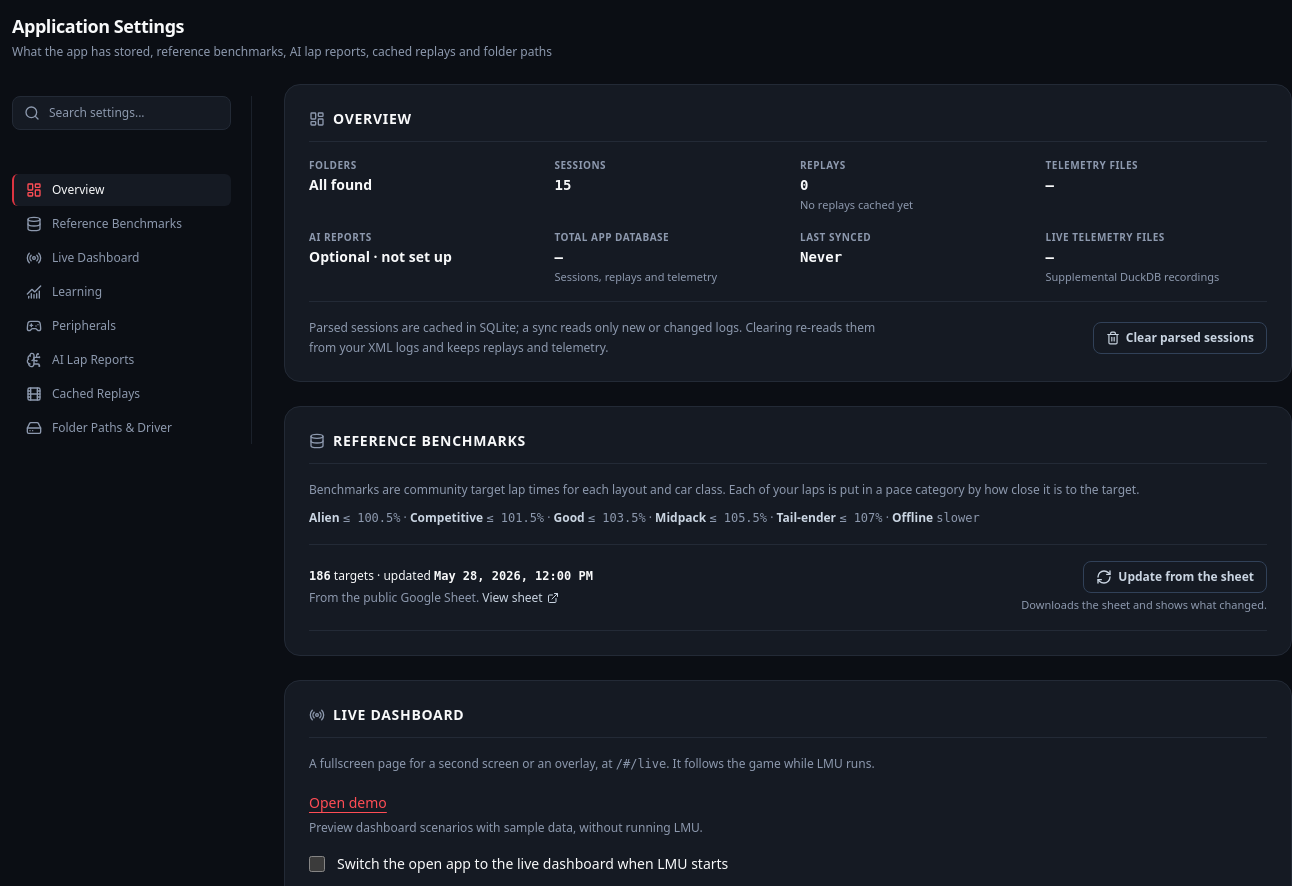
Test: Settings component › handles reference laptimes manual refresh button click
Expected: the text "No replays cached yet" is shown, left=800, top=197, right=913, bottom=212
Expected: the heading "Reference Benchmarks" is shown, left=309, top=431, right=526, bottom=451
Click the button "Update from the sheet". click: (1175, 577)
box: left=1083, top=561, right=1267, bottom=593
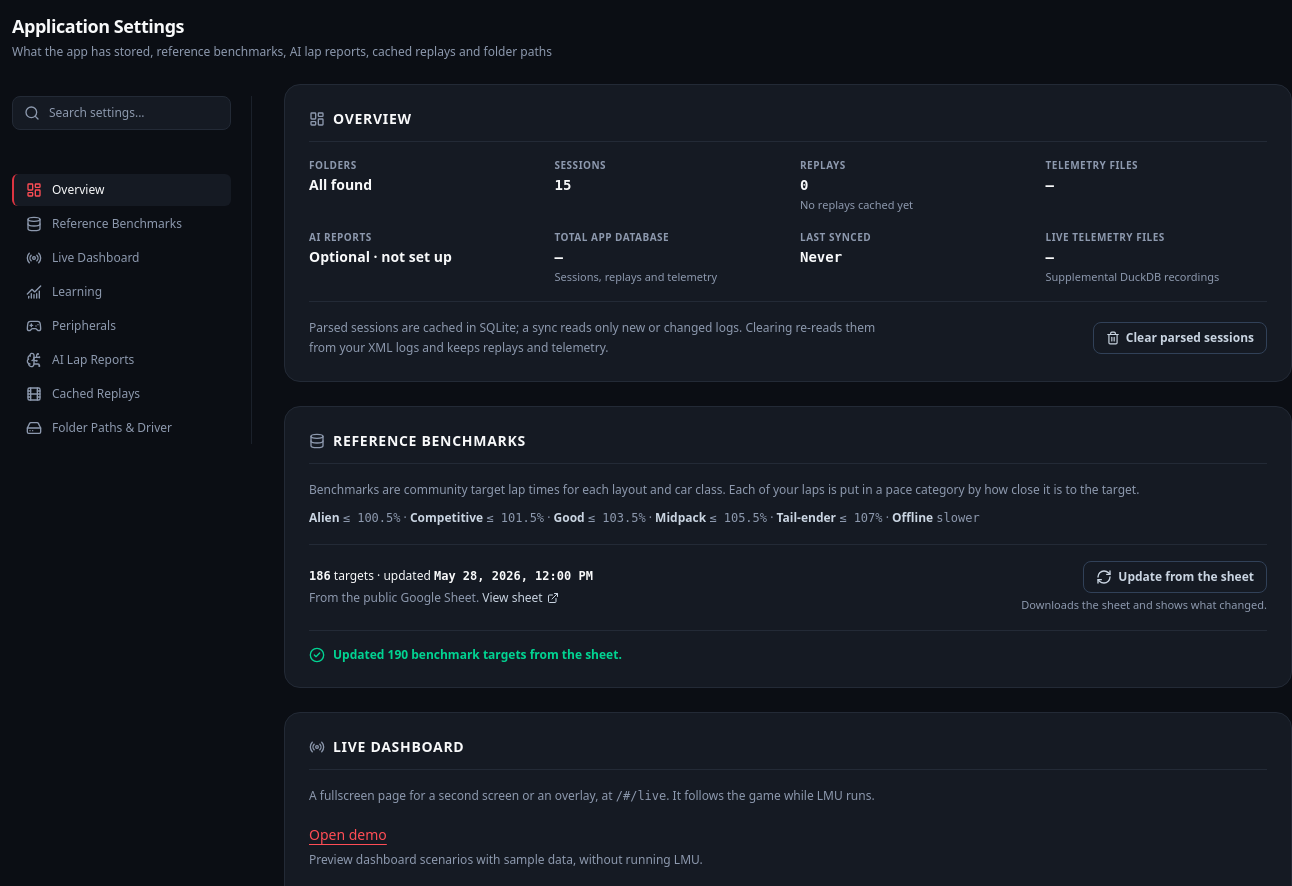
Expected: the text "Updated 190 benchmark targets from the sheet." is shown, left=333, top=646, right=622, bottom=662
